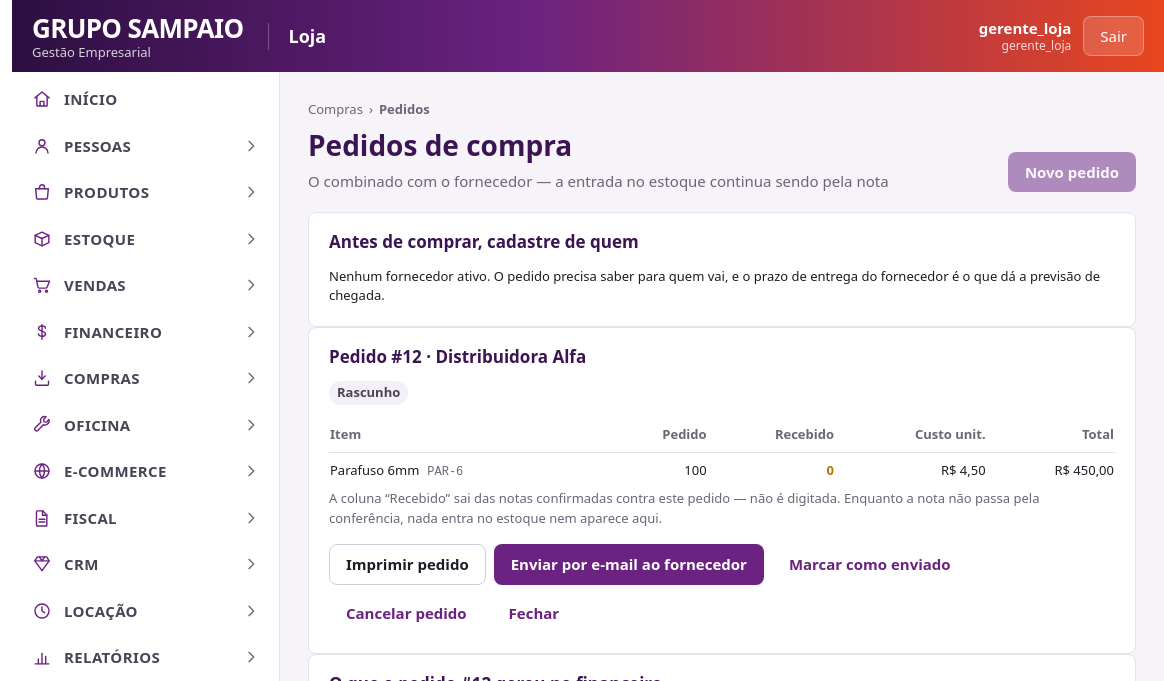
Scenario: GAP-PRD-090 — os três gestos com os três nomes › com SMTP pronto, a frase diz enviado, com o anexo
Click the button "Enviar por e-mail ao fornecedor" at (629, 564), box [494,544,764,584]
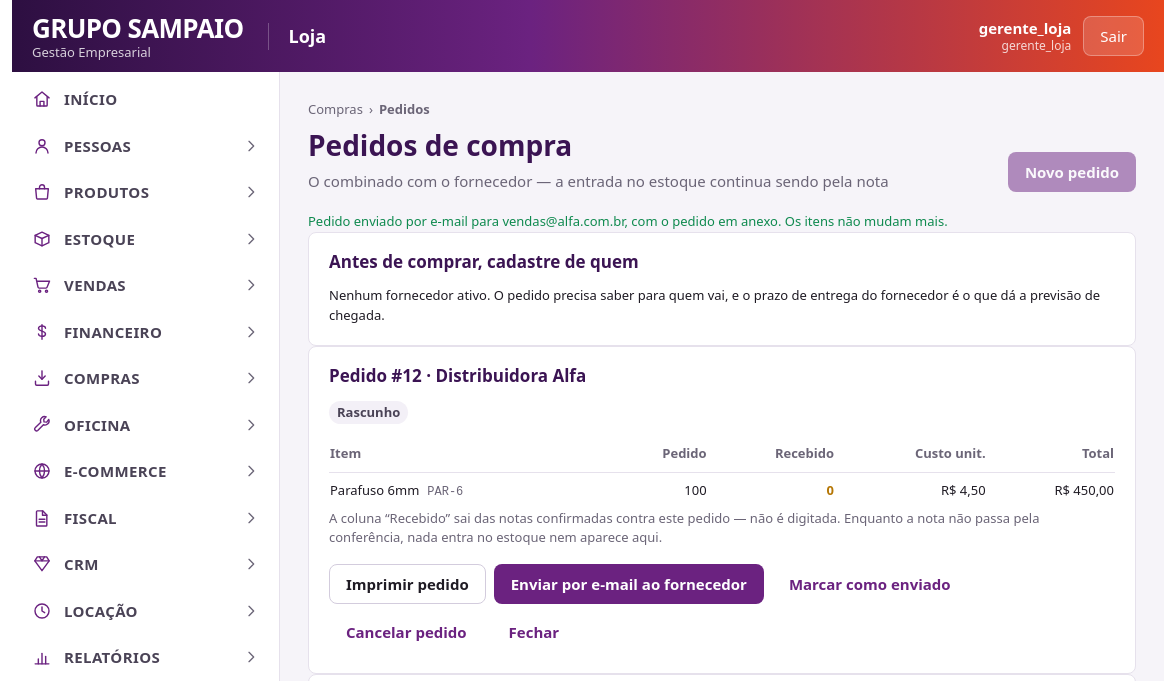
Check: the text "Pedido enviado por e-mail para vendas@alfa.com.br" is shown, box [308,212,948,230]
